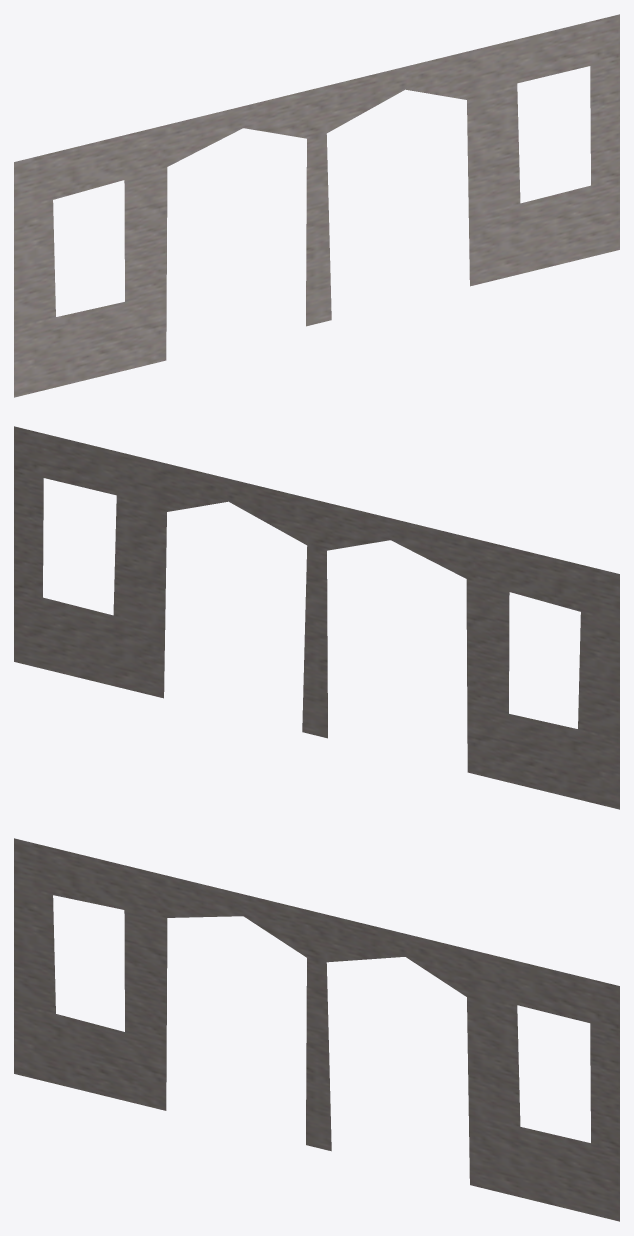
Rendered from W_AI1_foof [Marmor]_2434.glb.
3 renders of one model, top to bottom at view 1: azimuth 30°, elevation 25°; view 2: azimuth 150°, elevation 25°; view 3: azimuth 330°, elevation 25°, orthographic.
Visible parts, largest first — view 1: polySurfaceShape761; view 2: polySurfaceShape761; view 3: polySurfaceShape761.
Boxes of the visible parts, left/top/right/bottom form: polySurfaceShape761: left=14, top=14, right=619, bottom=397; polySurfaceShape761: left=14, top=426, right=619, bottom=809; polySurfaceShape761: left=14, top=838, right=619, bottom=1221.
Size of the model in its own units: 0.9385 by 0.3486 by 1.34e-07.
1 material, 1 textured.
